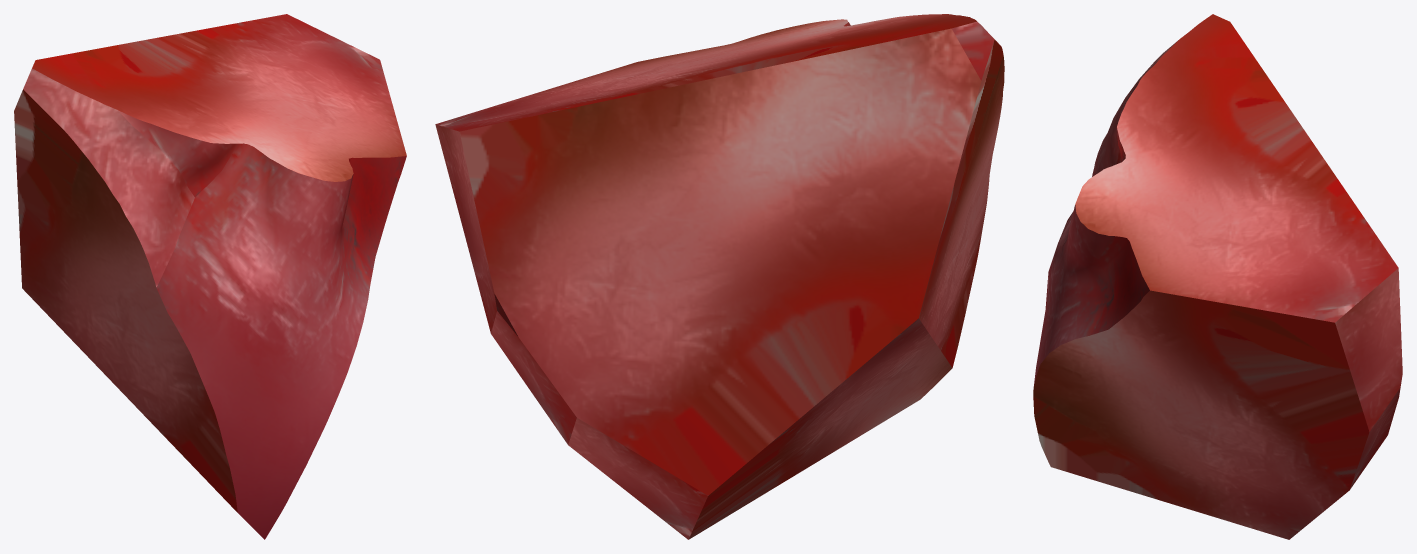
The model's file is SM_HeartPiece_21_.FBX.
3 views of the same model, side by side, from view 1: azimuth 30°, elevation 25°; view 2: azimuth 150°, elevation 25°; view 3: azimuth 270°, elevation 25° (orthographic). The views are drawn at different scales.
Parts seen in each view (by area): view 1: SM_HeartPiece_21_; view 2: SM_HeartPiece_21_; view 3: SM_HeartPiece_21_.
Boxes of the visible parts, bbox=[...] form: SM_HeartPiece_21_: bbox=[14, 14, 406, 539]; SM_HeartPiece_21_: bbox=[435, 14, 1004, 539]; SM_HeartPiece_21_: bbox=[1033, 14, 1402, 539].
Bounding box in the file's own units: 384 × 322 × 415.
